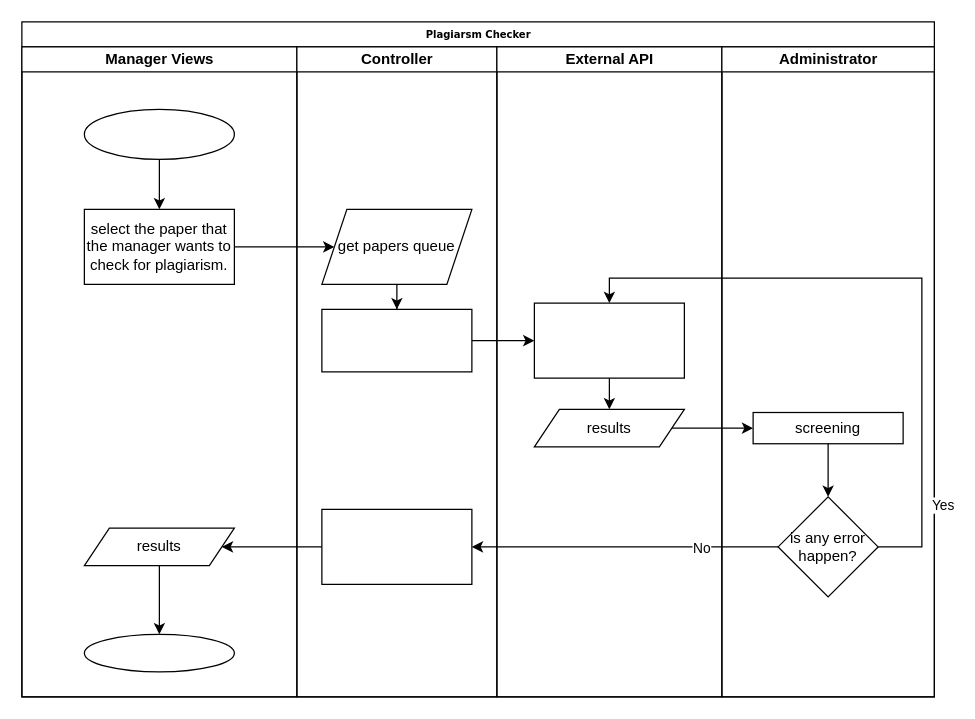
This 975x719 diagram has some shape labels left out. Each missing label, with the centre of its shape:
"finish" belongs at pixel 158 652.
"insert queue to database, send paper files to external API" belongs at pixel 396 340.
"Insert to database, and serve results to view" belongs at pixel 396 546.
"process all paper that has been sent" belongs at pixel 608 340.
"Start" belongs at pixel 158 133.
